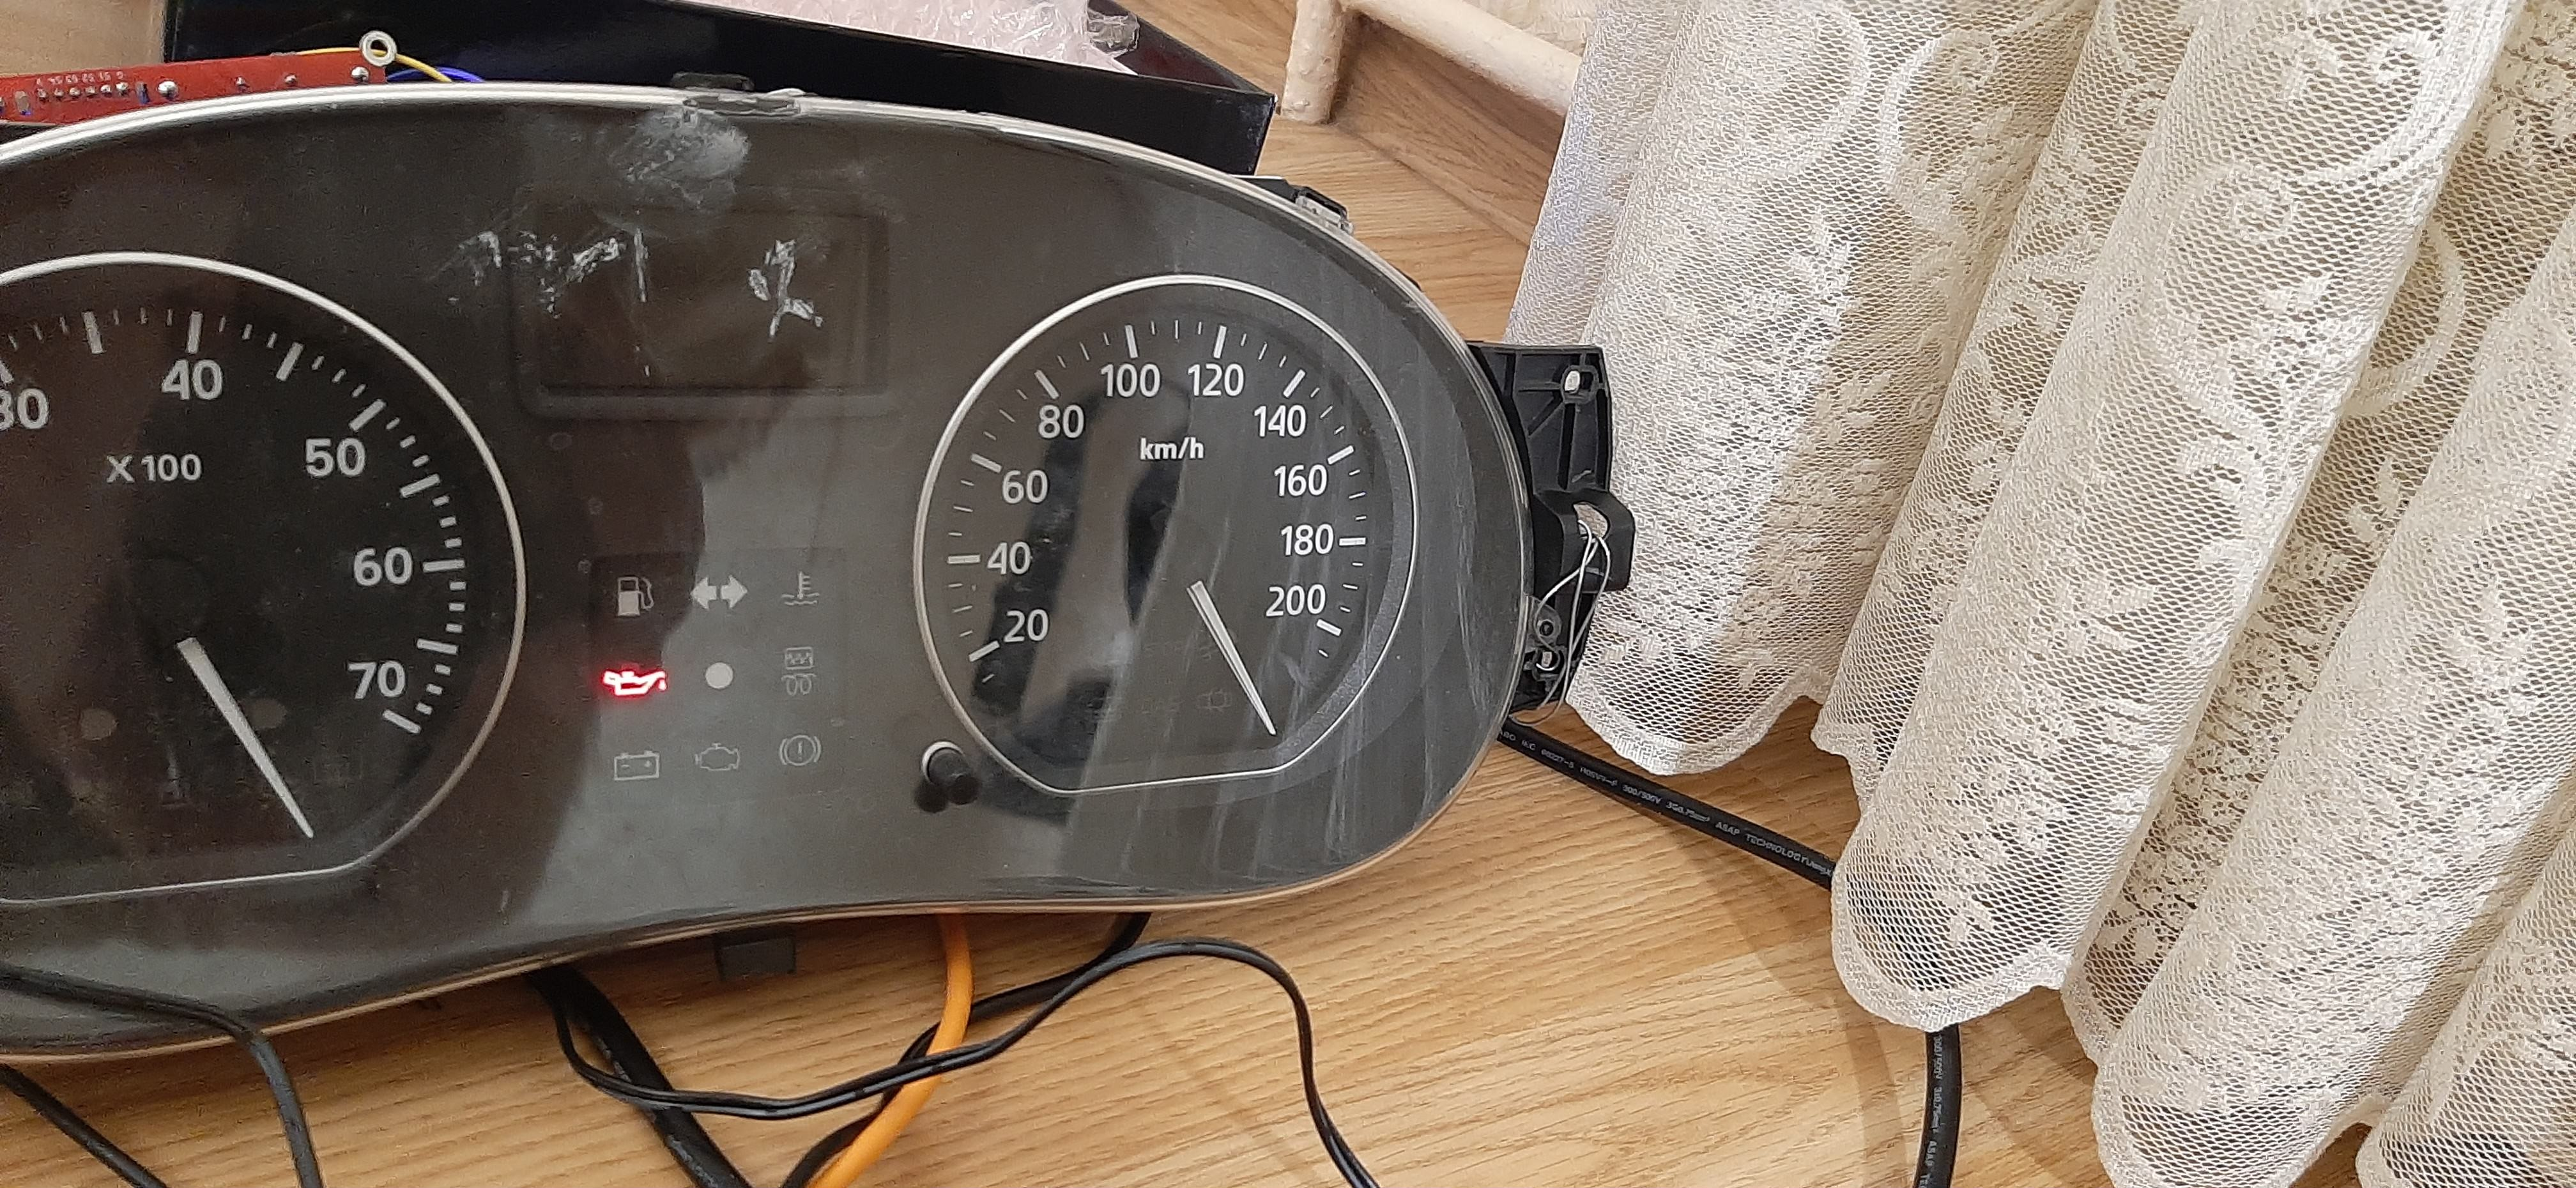oil16: (601, 665, 670, 697)
